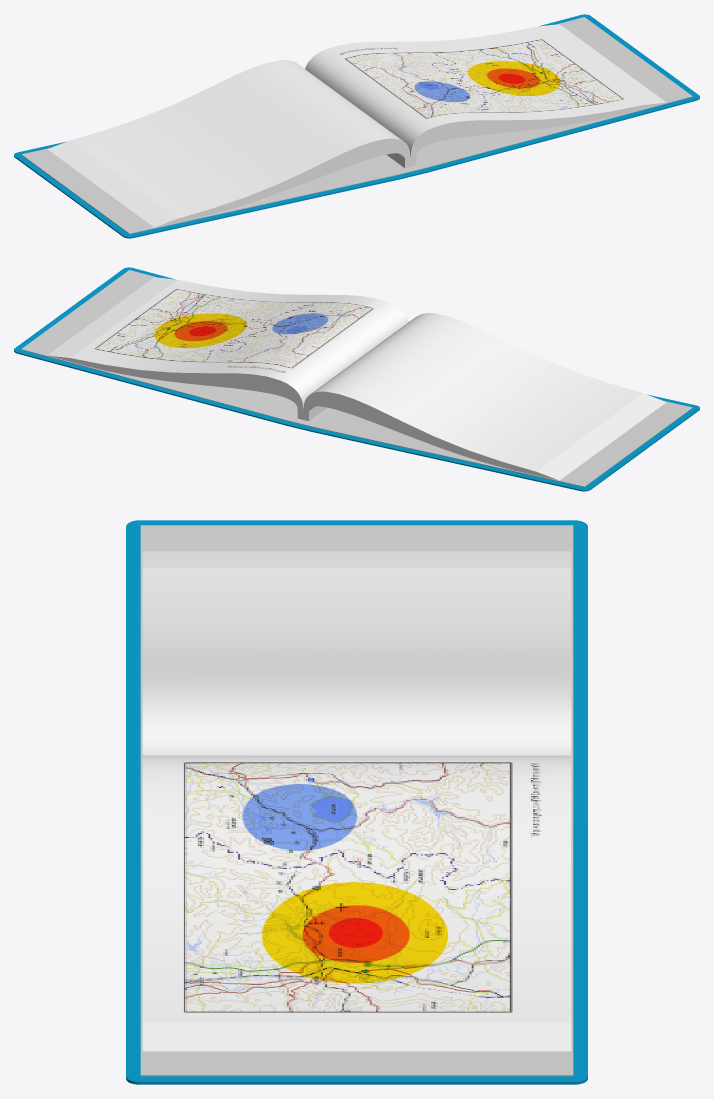
File: 460_パイプ式ファイルA3開中身あり.glb
The picture shows the model from 3 angles, top to bottom: view 1: azimuth 30°, elevation 25°; view 2: azimuth 150°, elevation 25°; view 3: azimuth 270°, elevation 25°; orthographic projection. The views are drawn at different scales.
Visible parts, largest first — view 1: 460_pipe_file_A3_open_with_contents; view 2: 460_pipe_file_A3_open_with_contents; view 3: 460_pipe_file_A3_open_with_contents.
Boxes of the visible parts, <box> form: 460_pipe_file_A3_open_with_contents: <box>14,14,699,238</box>; 460_pipe_file_A3_open_with_contents: <box>14,267,699,491</box>; 460_pipe_file_A3_open_with_contents: <box>126,520,587,1084</box>.
Bounding box in the file's own units: 0.9215 × 0.0618 × 0.32.
6 materials, 1 textured.
